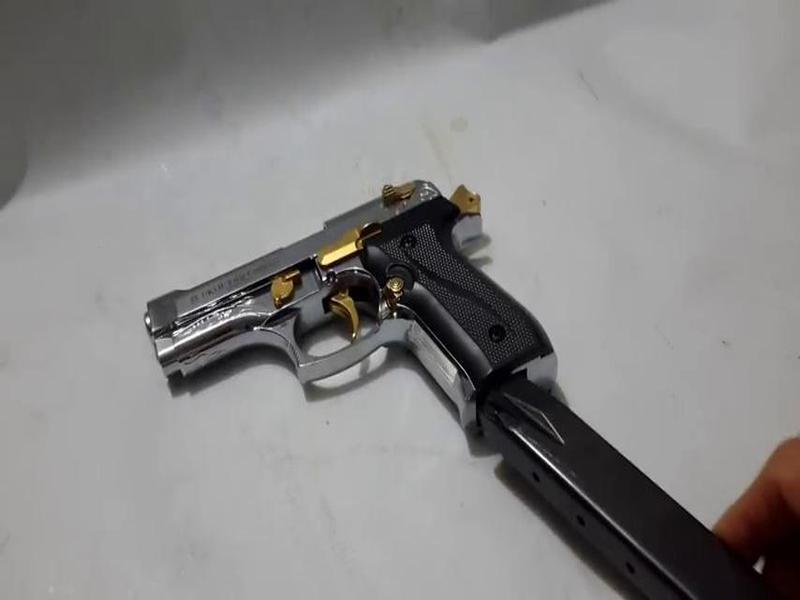Pistola: (137, 163, 579, 437)
